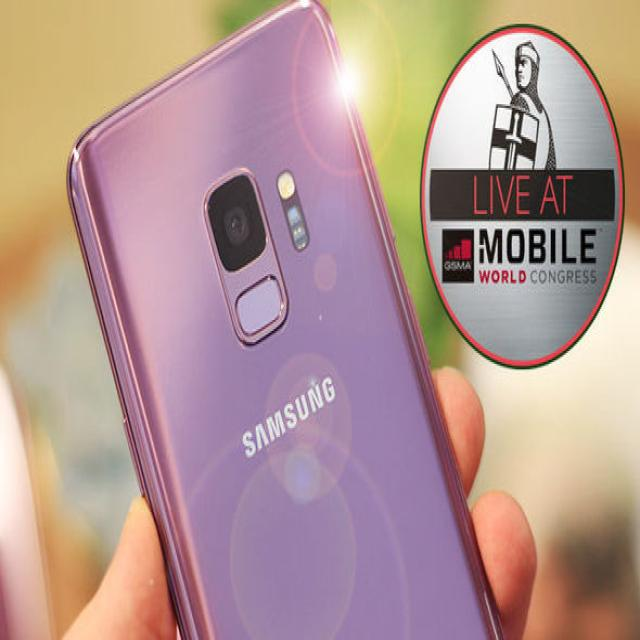mobile phone: (64, 0, 508, 638)
